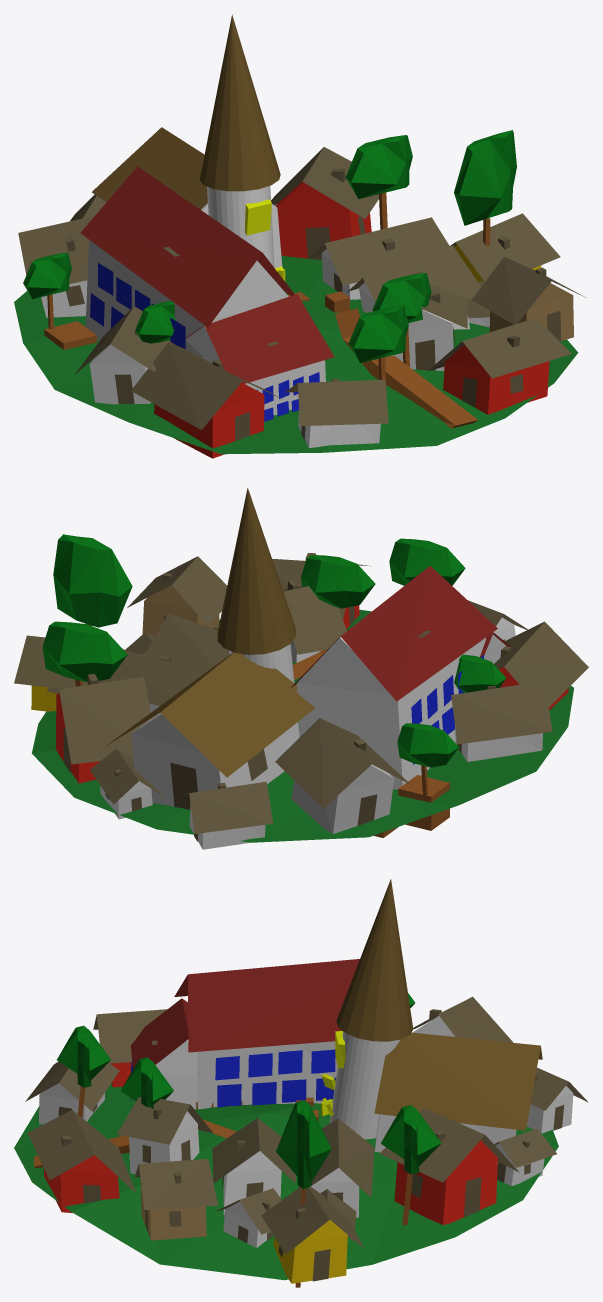
File: city_european_1.dae
The picture shows the model from 3 angles, top to bottom: view 1: azimuth 30°, elevation 25°; view 2: azimuth 150°, elevation 25°; view 3: azimuth 270°, elevation 25°; orthographic projection. The views are drawn at different scales.
Visible parts, largest first — view 1: Plane_016, Grass, Cube_000, Plane_008, Plane_010, Plane_007, Plane_014, Plane_001, Plane_009, Crate_007, Plane_005, Plane_002 (+10 smaller); view 2: Cube_000, Plane_016, Grass, Plane_002, Plane_007, Plane_005, Crate_007, Plane_004, Plane_009, Plane_008, Crate_008, Plane_003 (+11 smaller); view 3: Plane_016, Cube_000, Grass, Plane_007, Plane_010, Plane_011, Plane_009, Plane, Plane_003, Plane_001, Plane_014, Crate_007 (+9 smaller).
Part boxes in pixels (bbox=[...]): Plane_016: bbox=[80, 166, 334, 421]; Grass: bbox=[14, 255, 578, 454]; Cube_000: bbox=[92, 14, 282, 268]; Plane_008: bbox=[131, 342, 279, 458]; Plane_010: bbox=[428, 318, 571, 414]; Plane_007: bbox=[271, 147, 378, 259]; Plane_014: bbox=[284, 379, 388, 447]; Plane_001: bbox=[309, 217, 449, 299]; Plane_009: bbox=[471, 256, 585, 341]; Crate_007: bbox=[454, 130, 516, 245]; Plane_005: bbox=[75, 306, 171, 404]; Plane_002: bbox=[18, 216, 94, 317]; Cube_000: bbox=[105, 488, 314, 809]; Plane_016: bbox=[290, 566, 511, 789]; Grass: bbox=[31, 609, 573, 842]; Plane_002: bbox=[275, 718, 410, 833]; Plane_007: bbox=[45, 673, 151, 783]; Plane_005: bbox=[449, 681, 552, 761]; Crate_007: bbox=[53, 534, 132, 627]; Plane_004: bbox=[179, 781, 273, 849]; Plane_009: bbox=[127, 556, 226, 636]; Plane_008: bbox=[494, 621, 588, 709]; Crate_008: bbox=[42, 621, 127, 686]; Plane_003: bbox=[283, 580, 346, 662]; Plane_016: bbox=[130, 959, 359, 1109]; Cube_000: bbox=[329, 879, 542, 1152]; Grass: bbox=[14, 1083, 558, 1280]; Plane_007: bbox=[379, 1108, 519, 1224]; Plane_010: bbox=[27, 1110, 136, 1212]; Plane_011: bbox=[261, 1186, 364, 1283]; Plane_009: bbox=[135, 1159, 218, 1240]; Plane: bbox=[212, 1118, 295, 1214]; Plane_003: bbox=[117, 1097, 213, 1174]; Plane_001: bbox=[298, 1118, 374, 1217]; Plane_014: bbox=[25, 1061, 119, 1124]; Crate_007: bbox=[276, 1100, 331, 1287].
Size of the model in its own units: 4.46 by 4.66 by 2.82.
